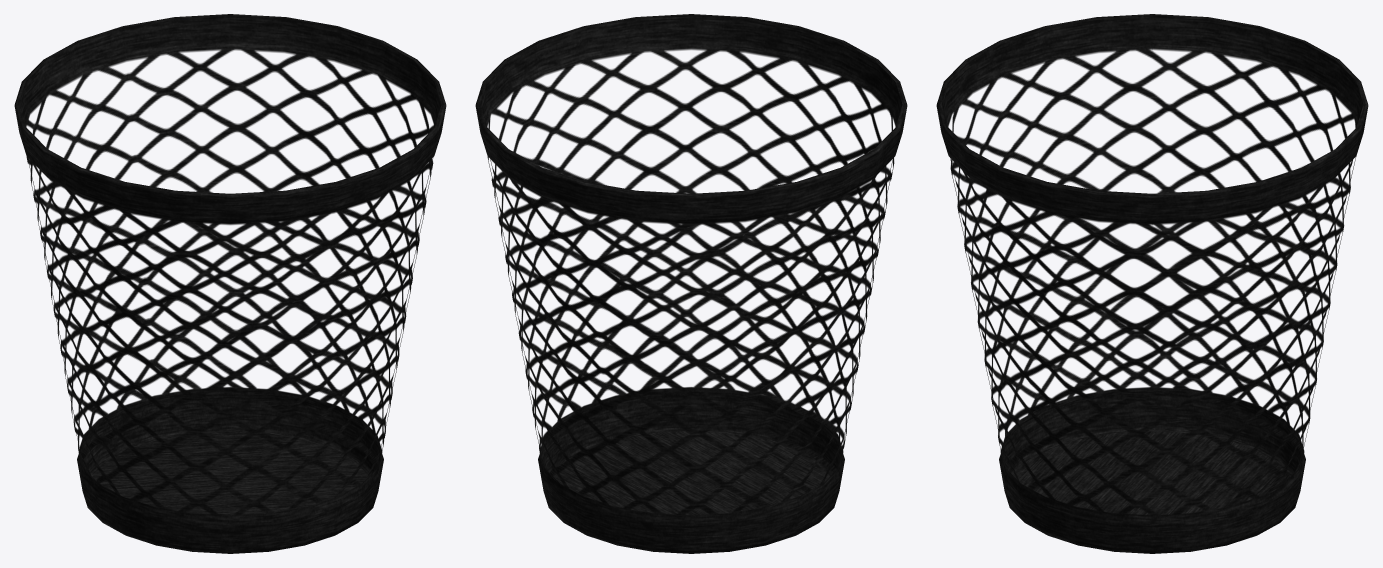
3 views of the same model, side by side, from view 1: azimuth 30°, elevation 25°; view 2: azimuth 150°, elevation 25°; view 3: azimuth 270°, elevation 25° (orthographic).
Parts seen in each view (by area): view 1: Waste; view 2: Waste; view 3: Waste.
Part boxes in pixels (x1,y1,x2,y2): Waste: [14, 14, 446, 553]; Waste: [475, 14, 907, 553]; Waste: [936, 14, 1368, 553].
Size of the model in its own units: 43.69 by 43.18 by 43.69.
1 material, 1 textured.
